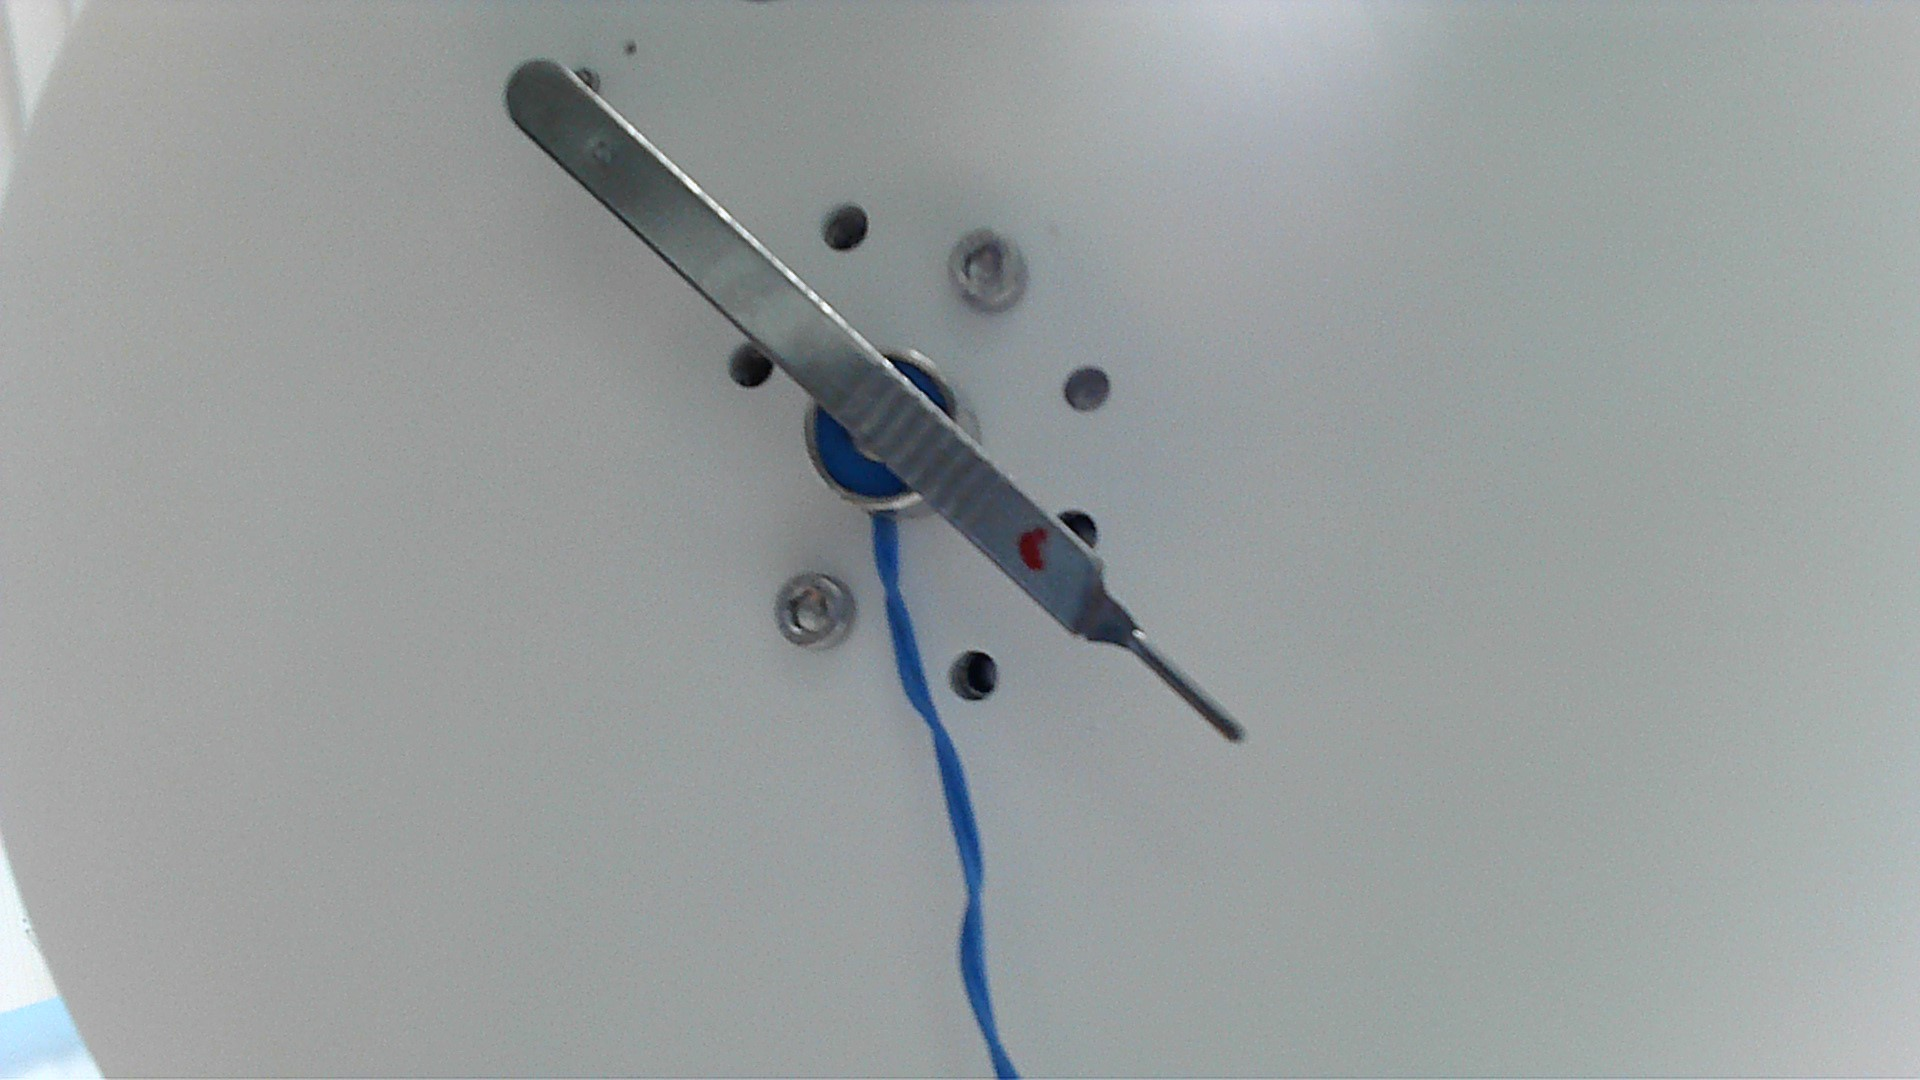Stain: (1011, 521, 1060, 584)
